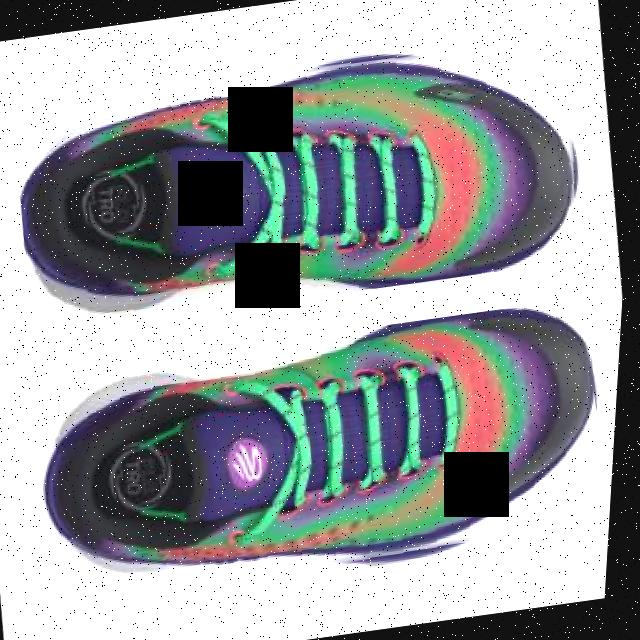shoe: (26, 297, 625, 612), (3, 26, 601, 337)
